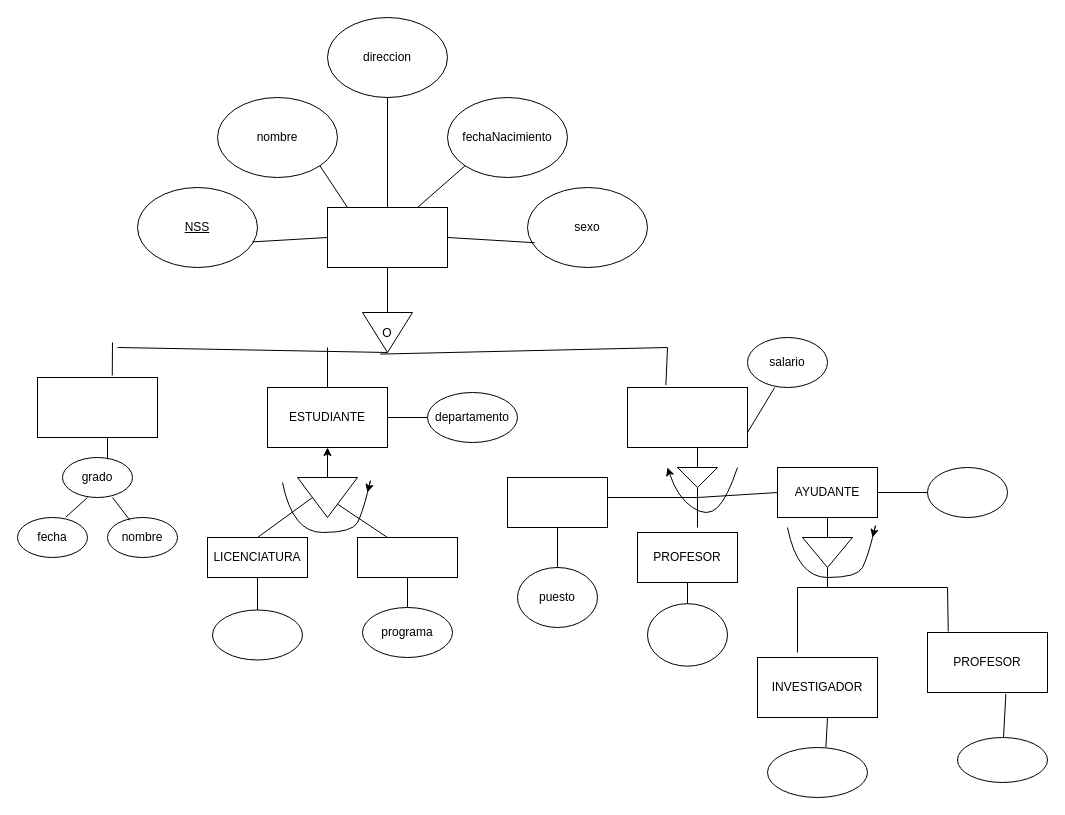
Some shapes in this 1065 by 815 pixel diagram are drawn without their labels. Each missing label, with the centre of its shape:
creditos: (257,634)
EGRESADO: (97,407)
EMPLEADO: (687,417)
horas: (967,492)
materia: (1002,759)
PERSONA: (387,237)
PERSONAL: (557,502)
POSGRADO: (407,557)
proyectos: (817,772)
tipo: (687,634)
